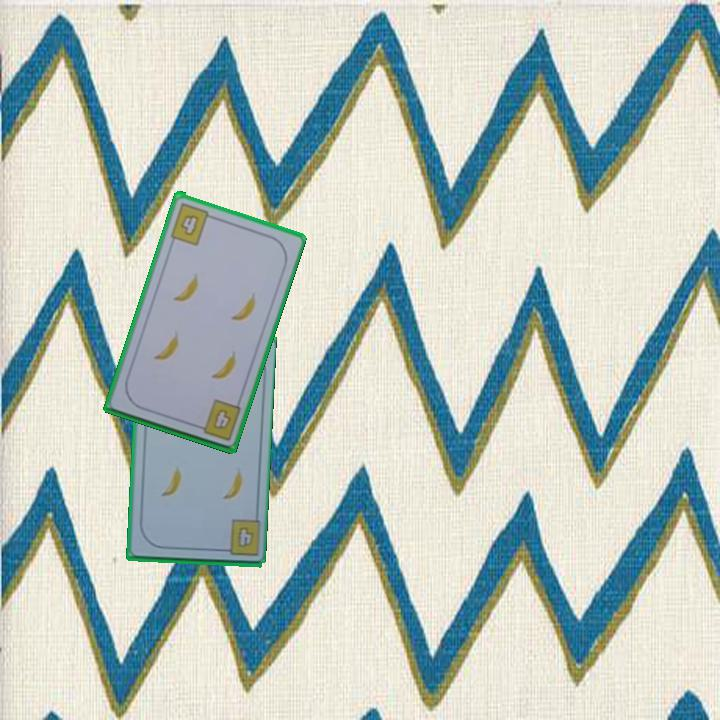4b: (167, 199, 218, 248), (209, 405, 234, 432), (236, 525, 254, 548)
